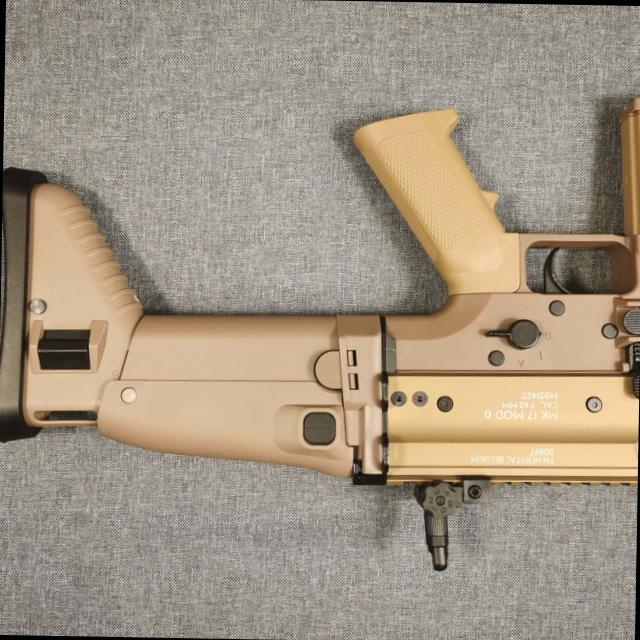Gun: (0, 82, 640, 564)
